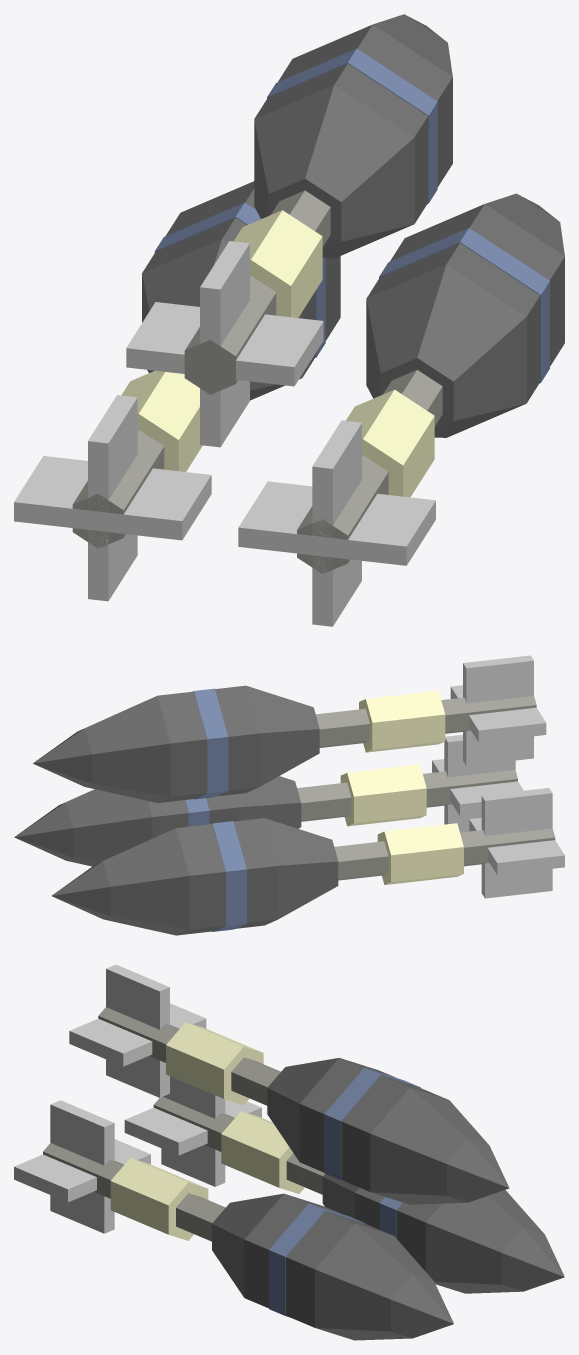
Rendered from ce_ammo_mortar_antigrain_b.obj.
3 views of the same model, one above another, from view 1: azimuth 30°, elevation 25°; view 2: azimuth 150°, elevation 25°; view 3: azimuth 270°, elevation 25° (orthographic). The views are drawn at different scales.
Visible parts, largest first — view 1: ce_ammo_mortar_antigrain_b_12, ce_ammo_mortar_antigrain_b_22, ce_ammo_mortar_antigrain_b_18, ce_ammo_mortar_antigrain_b_8, ce_ammo_mortar_antigrain_b_28, ce_ammo_mortar_antigrain_b_19, ce_ammo_mortar_antigrain_b_9, ce_ammo_mortar_antigrain_b_29, ce_ammo_mortar_antigrain_b_21, ce_ammo_mortar_antigrain_b_11, ce_ammo_mortar_antigrain_b_20, ce_ammo_mortar_antigrain_b_25 (+14 smaller); view 2: ce_ammo_mortar_antigrain_b_6, ce_ammo_mortar_antigrain_b_26, ce_ammo_mortar_antigrain_b_16, ce_ammo_mortar_antigrain_b_9, ce_ammo_mortar_antigrain_b_29, ce_ammo_mortar_antigrain_b_22, ce_ammo_mortar_antigrain_b_2, ce_ammo_mortar_antigrain_b_21, ce_ammo_mortar_antigrain_b_1, ce_ammo_mortar_antigrain_b_11, ce_ammo_mortar_antigrain_b_25, ce_ammo_mortar_antigrain_b_5 (+18 smaller); view 3: ce_ammo_mortar_antigrain_b_26, ce_ammo_mortar_antigrain_b_16, ce_ammo_mortar_antigrain_b_6, ce_ammo_mortar_antigrain_b_19, ce_ammo_mortar_antigrain_b_29, ce_ammo_mortar_antigrain_b_11, ce_ammo_mortar_antigrain_b_21, ce_ammo_mortar_antigrain_b_1, ce_ammo_mortar_antigrain_b_25, ce_ammo_mortar_antigrain_b_15, ce_ammo_mortar_antigrain_b_23, ce_ammo_mortar_antigrain_b_13 (+18 smaller).
Boxes of the visible parts, x1,y1,x2,y2 form: ce_ammo_mortar_antigrain_b_12: (366,264,526,437); ce_ammo_mortar_antigrain_b_22: (254,85,414,258); ce_ammo_mortar_antigrain_b_18: (238,481,435,565); ce_ammo_mortar_antigrain_b_8: (14,456,211,540); ce_ammo_mortar_antigrain_b_28: (126,302,323,386); ce_ammo_mortar_antigrain_b_19: (312,420,361,626); ce_ammo_mortar_antigrain_b_9: (88,395,137,601); ce_ammo_mortar_antigrain_b_29: (200,241,249,447); ce_ammo_mortar_antigrain_b_21: (233,210,322,317); ce_ammo_mortar_antigrain_b_11: (346,389,434,497); ce_ammo_mortar_antigrain_b_20: (184,190,330,394); ce_ammo_mortar_antigrain_b_25: (278,24,452,186); ce_ammo_mortar_antigrain_b_6: (103,828,189,935); ce_ammo_mortar_antigrain_b_26: (84,695,170,802); ce_ammo_mortar_antigrain_b_16: (66,789,152,866); ce_ammo_mortar_antigrain_b_9: (481,788,552,898); ce_ammo_mortar_antigrain_b_29: (463,655,533,765); ce_ammo_mortar_antigrain_b_22: (246,685,319,786); ce_ammo_mortar_antigrain_b_2: (264,818,338,919); ce_ammo_mortar_antigrain_b_21: (359,690,445,752); ce_ammo_mortar_antigrain_b_1: (377,823,463,884); ce_ammo_mortar_antigrain_b_11: (340,764,426,826); ce_ammo_mortar_antigrain_b_25: (157,691,207,802); ce_ammo_mortar_antigrain_b_5: (176,824,225,935); ce_ammo_mortar_antigrain_b_26: (370,1087,489,1204); ce_ammo_mortar_antigrain_b_16: (315,1223,433,1340); ce_ammo_mortar_antigrain_b_6: (425,1190,544,1293); ce_ammo_mortar_antigrain_b_19: (50,1100,114,1233); ce_ammo_mortar_antigrain_b_29: (106,964,169,1097); ce_ammo_mortar_antigrain_b_11: (110,1158,208,1240); ce_ammo_mortar_antigrain_b_21: (166,1022,263,1104); ce_ammo_mortar_antigrain_b_1: (221,1111,304,1193); ce_ammo_mortar_antigrain_b_25: (341,1075,447,1191); ce_ammo_mortar_antigrain_b_15: (286,1211,392,1327); ce_ammo_mortar_antigrain_b_23: (299,1058,396,1172); ce_ammo_mortar_antigrain_b_13: (244,1193,340,1308).
Size of the model in its own units: 0.8443 by 0.39 by 0.8443.
